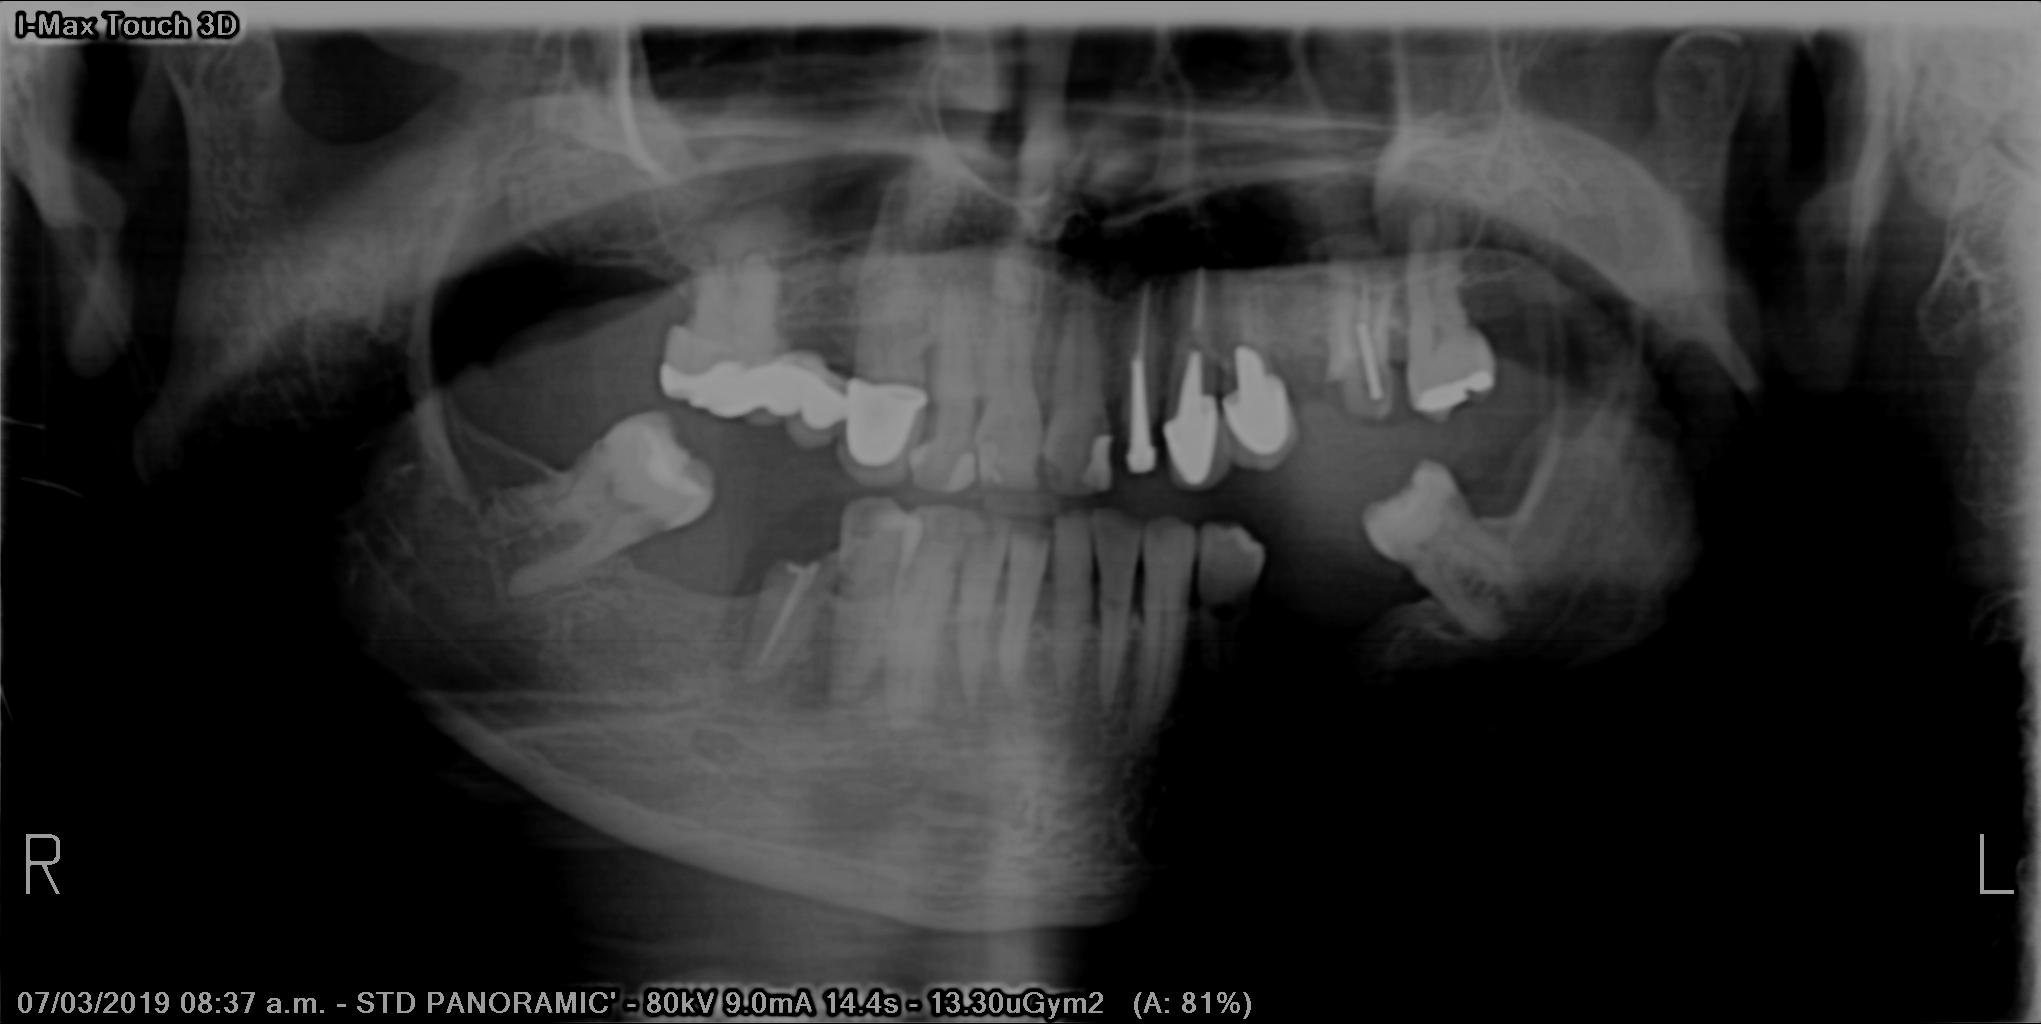Çürük: (659, 319, 778, 410), (1217, 344, 1306, 457), (1163, 341, 1231, 487), (844, 370, 932, 464), (1405, 372, 1507, 422), (1123, 353, 1161, 477), (1345, 321, 1393, 406), (639, 428, 701, 494)
